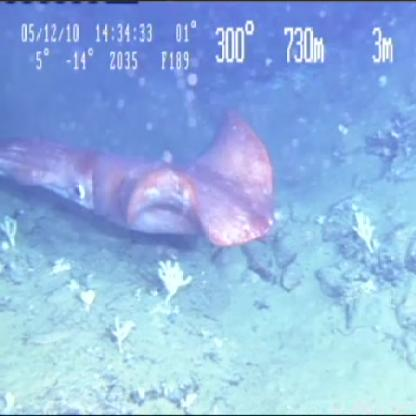Bio: (1, 103, 281, 252), (154, 256, 194, 308), (110, 314, 138, 354)
